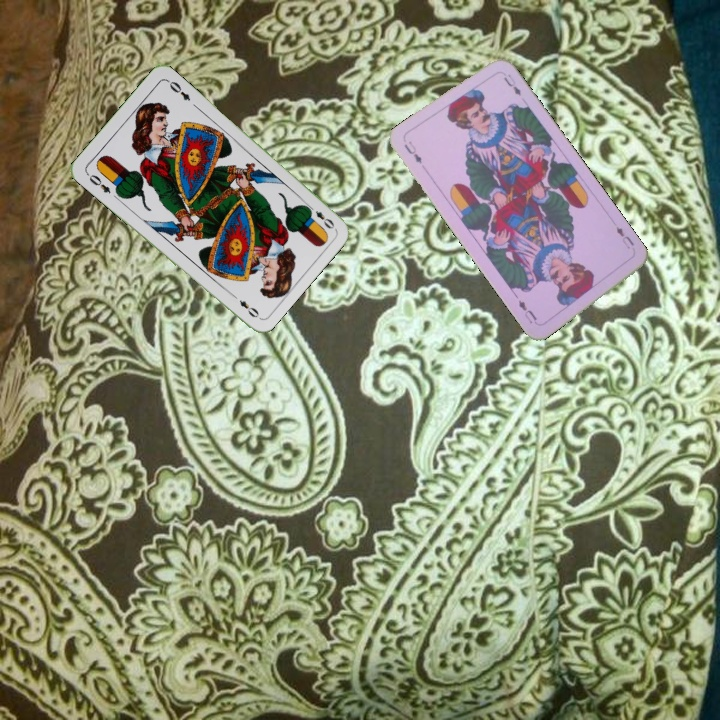EO: (303, 200, 337, 232), (83, 169, 113, 196)
EU: (612, 222, 637, 251), (400, 137, 424, 166)
